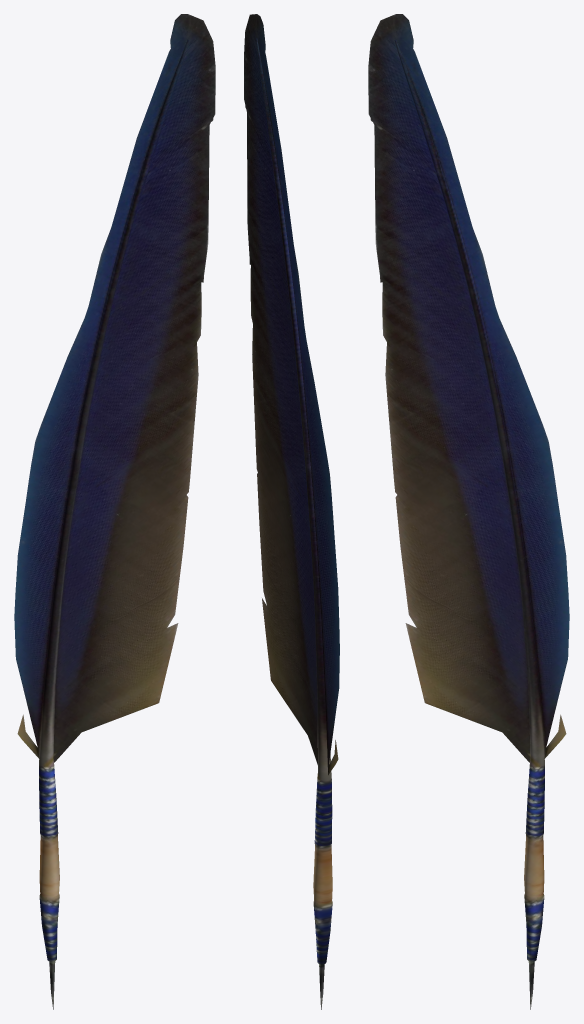
File: Old Feather.fbx
The picture shows the model from 3 angles, left to right: view 1: azimuth 90°, elevation 25°; view 2: azimuth 210°, elevation 25°; view 3: azimuth 270°, elevation 25°; orthographic projection. The views are drawn at different scales.
Parts seen in each view (by area): view 1: BezierCurve; view 2: BezierCurve; view 3: BezierCurve.
Part boxes in pixels (x1,y1,x2,y2): BezierCurve: (14,14,215,1009); BezierCurve: (244,14,339,1009); BezierCurve: (368,14,569,1009).
Size of the model in its own units: 0.517 by 27.9 by 5.11.
